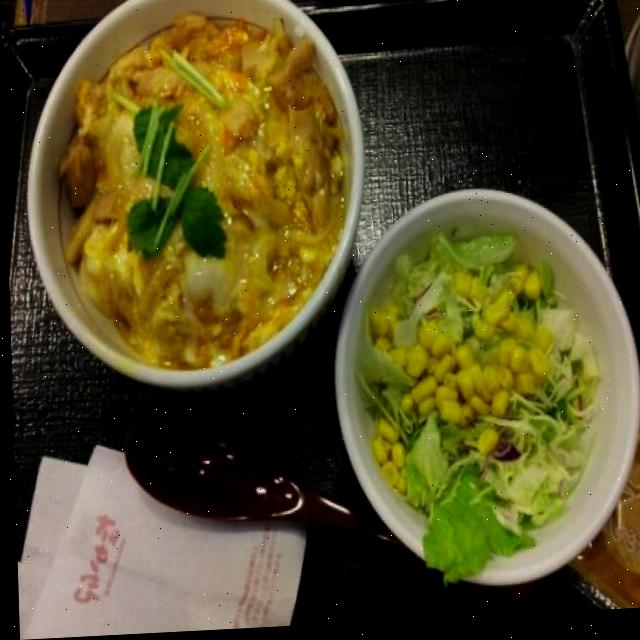米饭主食: (13, 0, 362, 460)
蔬菜料理: (324, 192, 637, 589)
